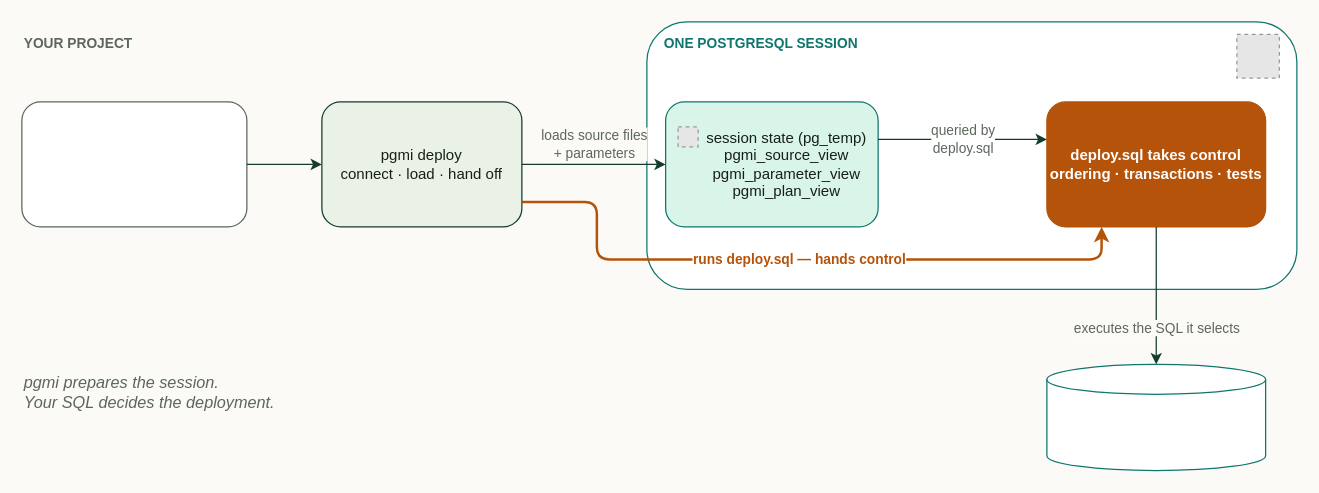
Some shapes in this 1319 by 493 pixel diagram are drawn without their labels. Grey dashed boxes stand in for pictures. The shapes that lost their labels are listed below. From the top down, each one's centre as x and y in pixels, then its label:
the point at 134,164: project directory migrations/ · functions/ __test__/ · deploy.sql
the point at 1156,417: your database
